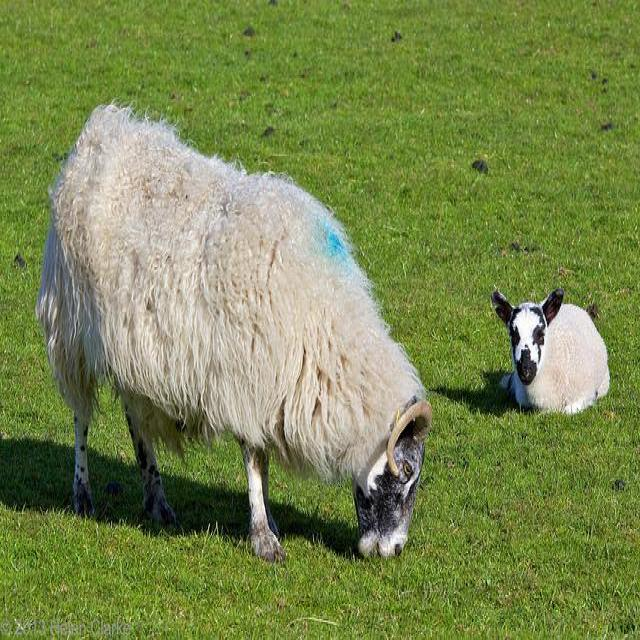Sheep: (44, 105, 429, 571), (494, 288, 614, 426)
